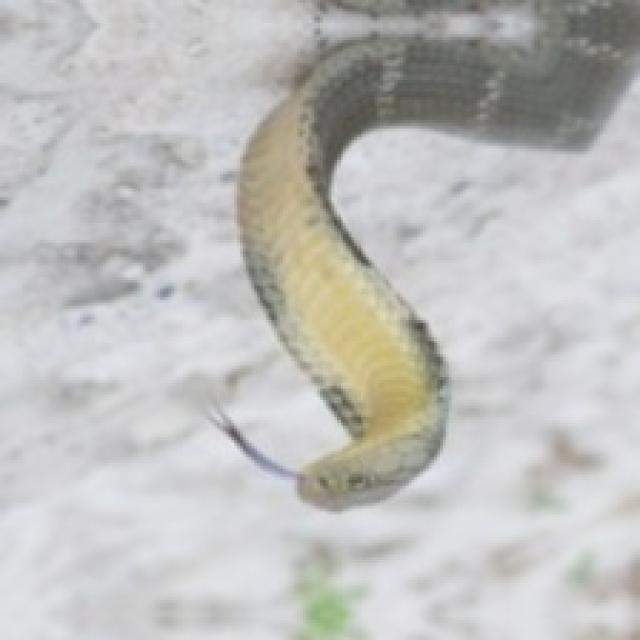king cobra: (237, 0, 637, 506)
